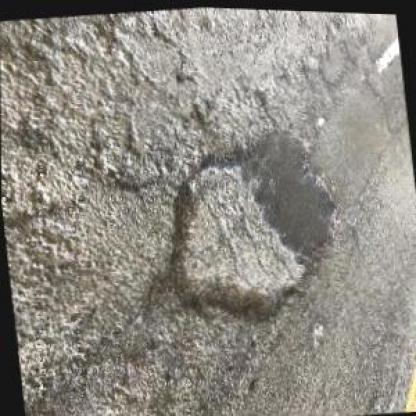pothole: (126, 116, 352, 337)
